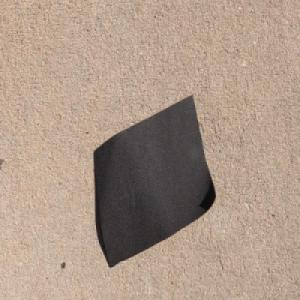PaintChip: (93, 93, 216, 269)
